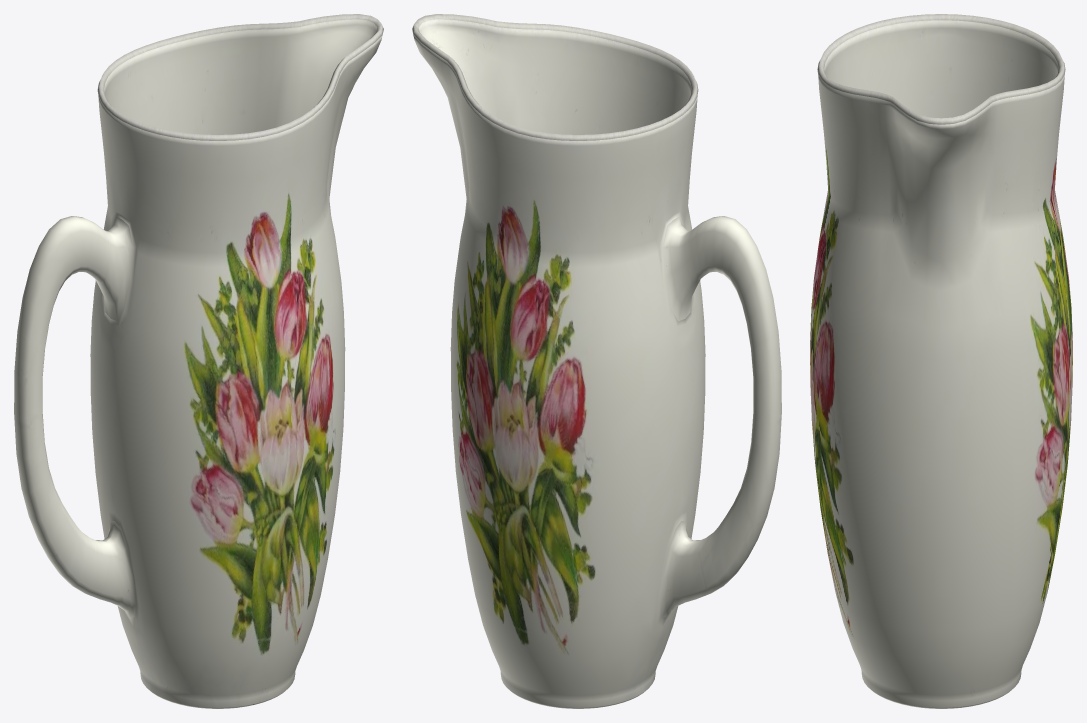
The model's file is pitcher.glb.
The picture shows the model from 3 angles, left to right: view 1: azimuth 30°, elevation 25°; view 2: azimuth 150°, elevation 25°; view 3: azimuth 270°, elevation 25°; orthographic projection. The views are drawn at different scales.
Visible parts, largest first — view 1: jug_01.001; view 2: jug_01.001; view 3: jug_01.001.
Part boxes in pixels (x1,y1,x2,y2): jug_01.001: (14, 14, 383, 708); jug_01.001: (412, 14, 781, 708); jug_01.001: (810, 14, 1072, 708).
Bounding box in the file's own units: 6.38 × 10.4 × 3.88.
Materials: 1 (1 with a texture image).
